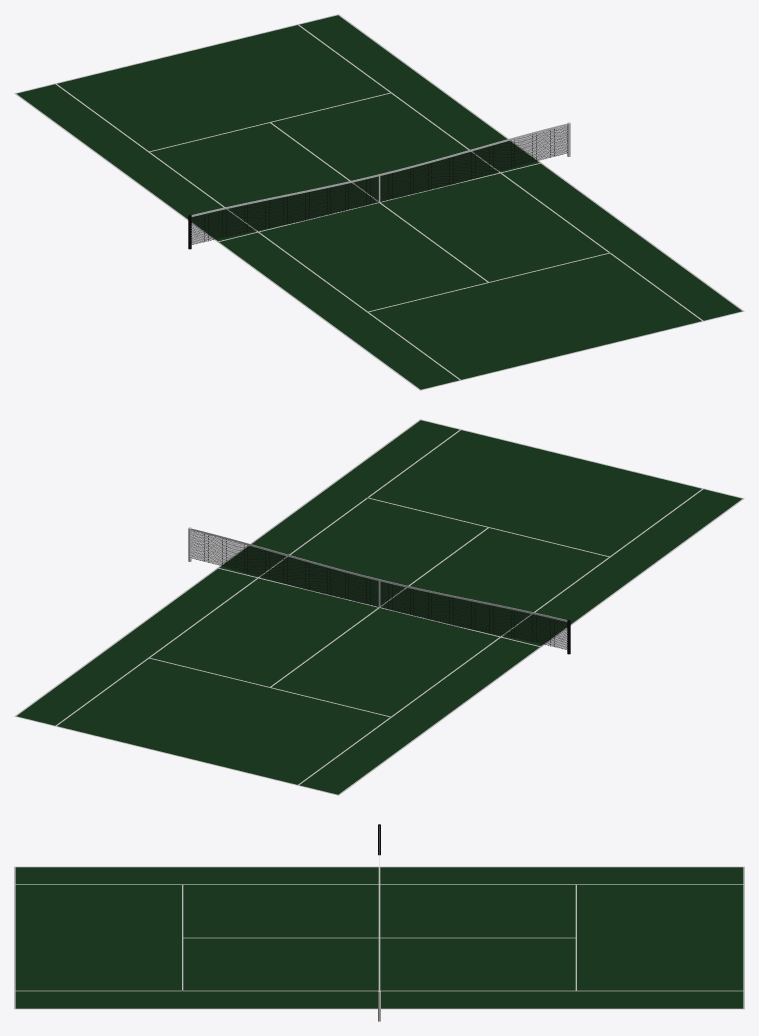
File: Court.obj
The picture shows the model from 3 angles, top to bottom: view 1: azimuth 30°, elevation 25°; view 2: azimuth 150°, elevation 25°; view 3: azimuth 270°, elevation 25°; orthographic projection. The views are drawn at different scales.
Visible parts, largest first — view 1: Plane, Plane.001, Cube; view 2: Plane, Plane.001, Cube; view 3: Plane.
Part boxes in pixels (x1,y1,x2,y2): Plane: (14,14,744,390); Plane.001: (191,126,567,244); Cube: (191,123,567,216); Plane: (14,419,744,795); Plane.001: (191,531,567,649); Cube: (191,528,567,621); Plane: (14,866,744,1009).
Bounding box in the file's own units: 12.9 × 1.13 × 23.77.
